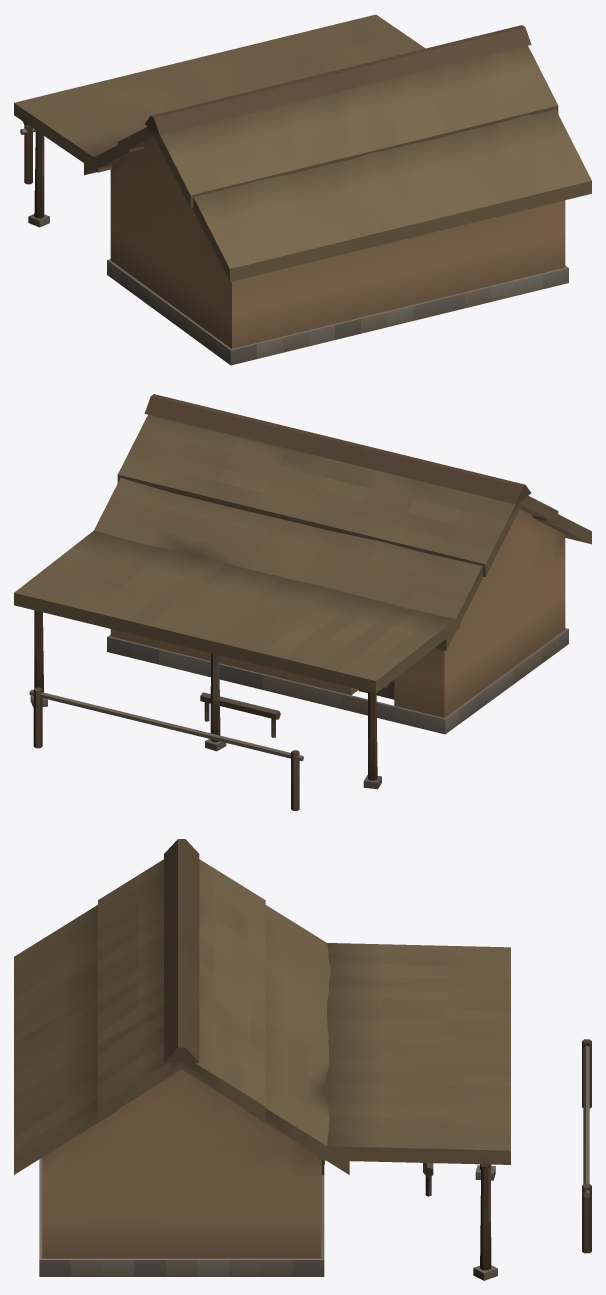
File: casa_pulperia_a.glb
3 views of the same model, one above another, from view 1: azimuth 30°, elevation 25°; view 2: azimuth 150°, elevation 25°; view 3: azimuth 270°, elevation 25° (orthographic). The views are drawn at different scales.
Visible parts, largest first — view 1: casa_pulperia_a; view 2: casa_pulperia_a; view 3: casa_pulperia_a.
Part boxes in pixels (x1,y1,x2,y2): casa_pulperia_a: (14, 14, 591, 365); casa_pulperia_a: (14, 394, 591, 810); casa_pulperia_a: (14, 839, 591, 1280).
Size of the model in its own units: 7.8 by 4.16 by 9.13.
